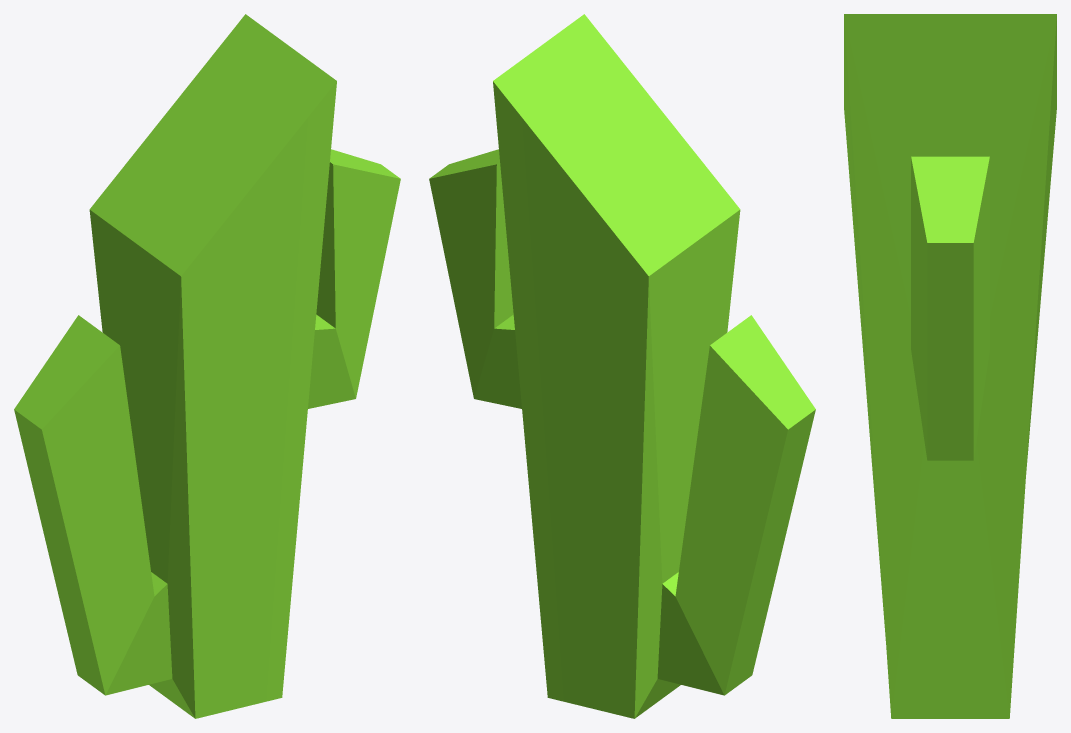
The model's file is Cactus_1.fbx.
3 renders of one model, left to right at view 1: azimuth 30°, elevation 25°; view 2: azimuth 150°, elevation 25°; view 3: azimuth 270°, elevation 25°, orthographic. The views are drawn at different scales.
Visible parts, largest first — view 1: Cube.024; view 2: Cube.024; view 3: Cube.024.
Boxes of the visible parts, left/top/right/bottom form: Cube.024: left=14, top=14, right=400, bottom=718; Cube.024: left=429, top=14, right=815, bottom=718; Cube.024: left=844, top=14, right=1056, bottom=718.
Size of the model in its own units: 74.56 by 122 by 32.58.
